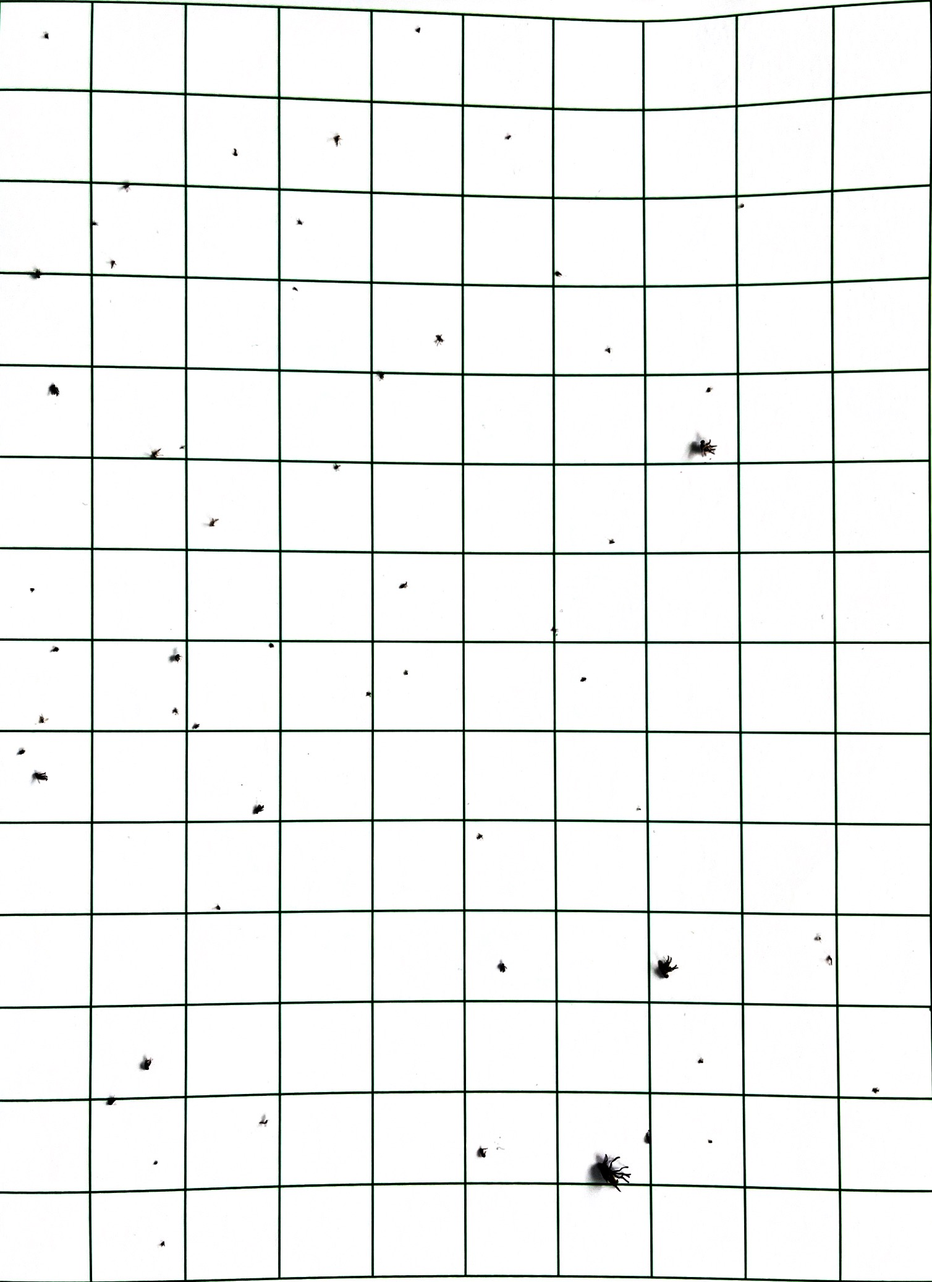fly: (589, 1154, 633, 1192), (689, 435, 720, 461)
test: (654, 957, 679, 982), (138, 1056, 154, 1072), (47, 381, 61, 398), (31, 771, 50, 783), (476, 1146, 490, 1160), (170, 650, 185, 663), (206, 516, 222, 528), (147, 447, 162, 459), (331, 134, 343, 149), (642, 1129, 652, 1146), (252, 803, 267, 814), (433, 334, 446, 346), (31, 268, 42, 281), (36, 715, 50, 725), (105, 1096, 118, 1106), (258, 1117, 271, 1127), (497, 960, 507, 973), (120, 181, 131, 192), (230, 147, 241, 158), (826, 955, 836, 967), (377, 369, 386, 381), (871, 1086, 881, 1096), (812, 934, 824, 942), (15, 748, 27, 756), (48, 645, 60, 653), (365, 688, 374, 698), (107, 259, 117, 268), (554, 269, 563, 279), (476, 831, 484, 841), (398, 581, 408, 589), (158, 1239, 167, 1247), (697, 1057, 705, 1066), (191, 724, 203, 730), (297, 217, 305, 226), (42, 31, 51, 39), (413, 25, 422, 33), (504, 132, 512, 141), (608, 536, 616, 545), (90, 221, 100, 228), (549, 627, 559, 634), (579, 675, 587, 683), (267, 642, 276, 649), (290, 287, 300, 293), (214, 905, 221, 913), (172, 707, 179, 715), (28, 585, 36, 592), (402, 668, 410, 675), (178, 444, 186, 451), (605, 345, 612, 353), (738, 202, 745, 210), (333, 463, 341, 470), (707, 1138, 714, 1145), (705, 387, 713, 393), (152, 1159, 159, 1165), (635, 805, 642, 811)
